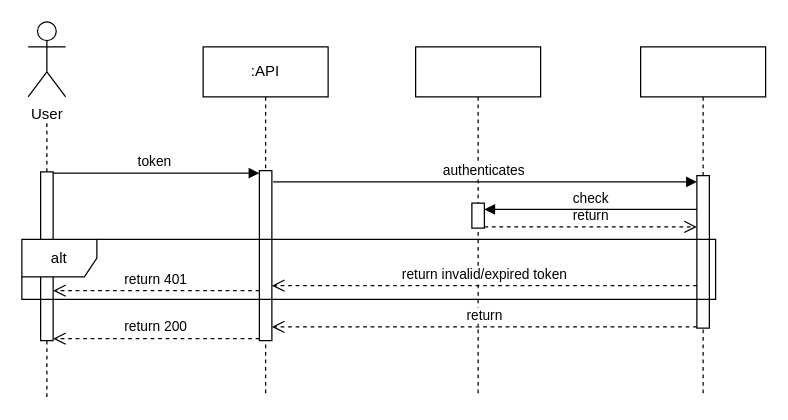
This 788x420 diagram has some shape labels left out. Each missing label, with the centre of its shape:
":auth" belongs at [702,221].
":jwt" belongs at [477,221].
